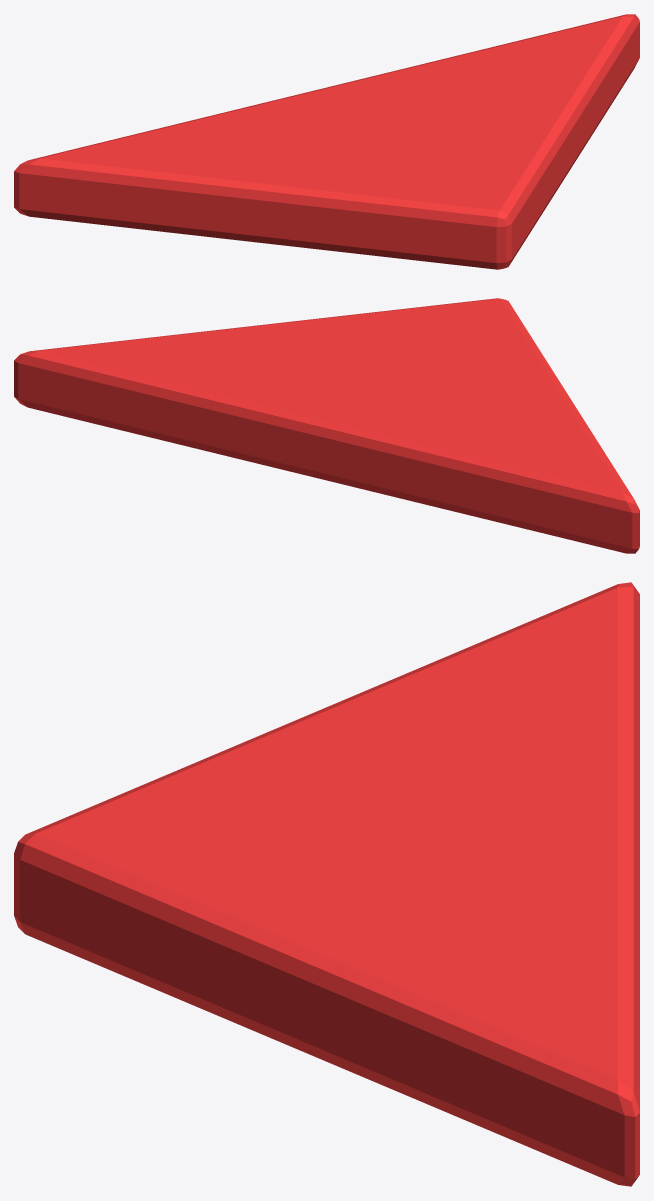
The picture shows the model from 3 angles, top to bottom: view 1: azimuth 30°, elevation 25°; view 2: azimuth 150°, elevation 25°; view 3: azimuth 270°, elevation 25°; orthographic projection. The views are drawn at different scales.
Parts seen in each view (by area): view 1: QQB.001; view 2: QQB.001; view 3: QQB.001.
Part boxes in pixels (x1,y1,x2,y2): QQB.001: [14, 14, 639, 269]; QQB.001: [14, 298, 639, 553]; QQB.001: [14, 582, 639, 1186].
Size of the model in its own units: 555 by 50 by 278.
Materials: 1 (1 with a texture image).
